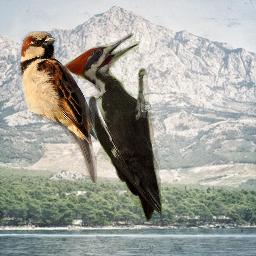Swallow: (18, 31, 97, 183)
Woodpecker: (59, 33, 162, 221)
